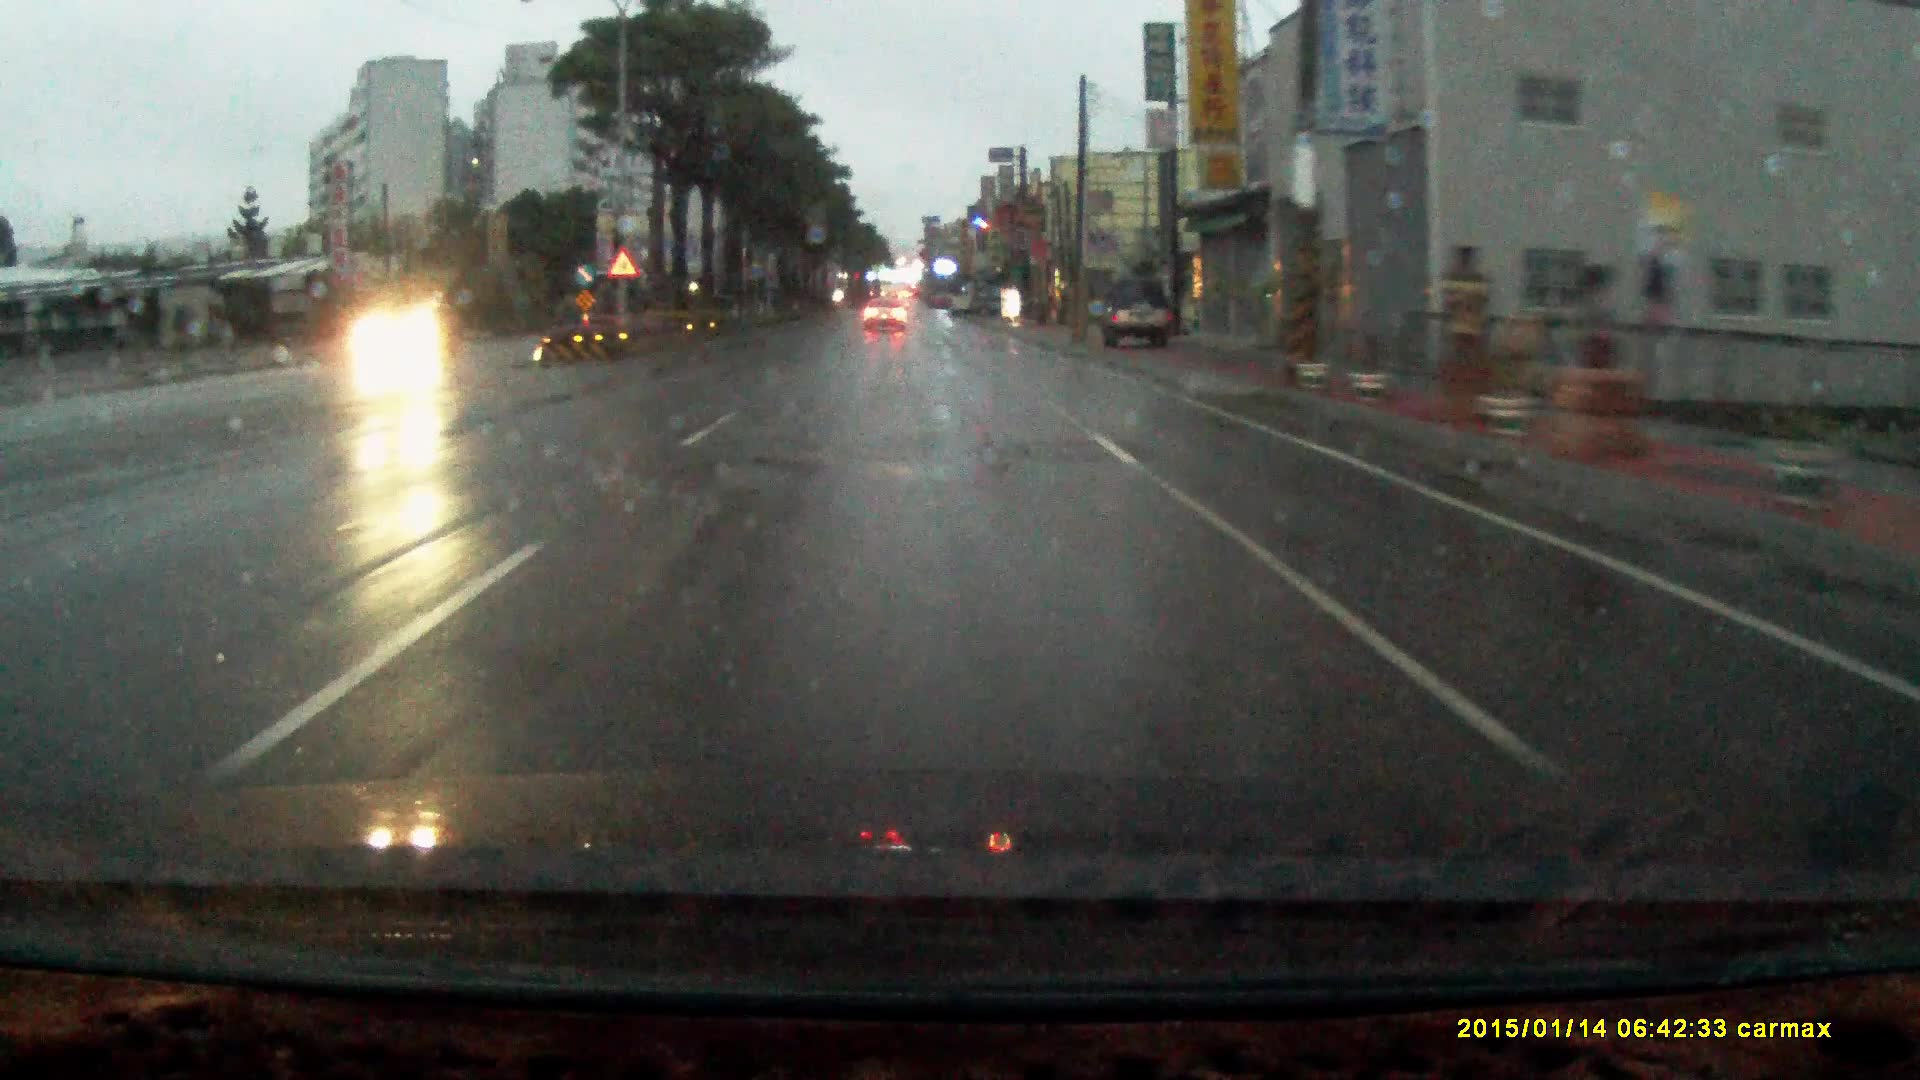vehicle: (1100, 281, 1176, 353), (862, 301, 909, 338)
